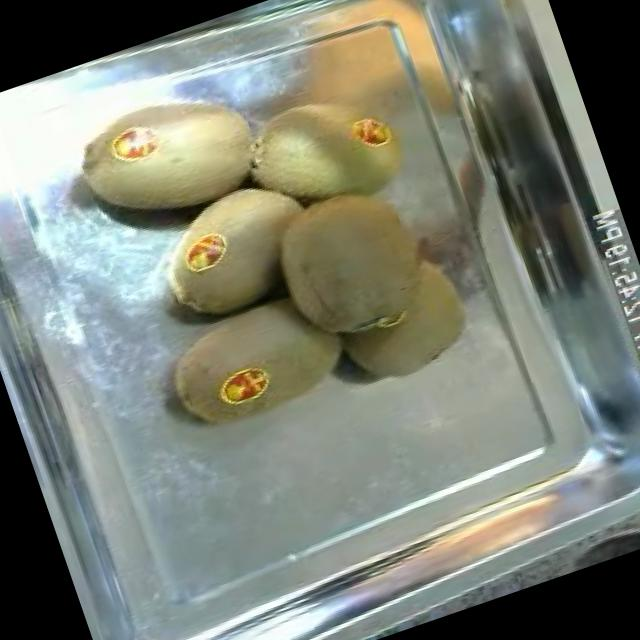Fruit: (247, 148, 492, 414), (189, 0, 439, 249), (48, 54, 286, 257), (142, 267, 364, 440)
